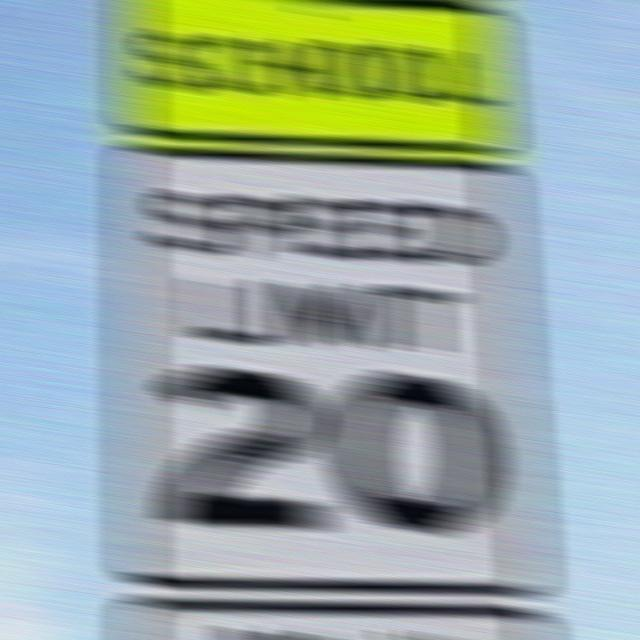speedLimit20: (114, 154, 542, 582)
